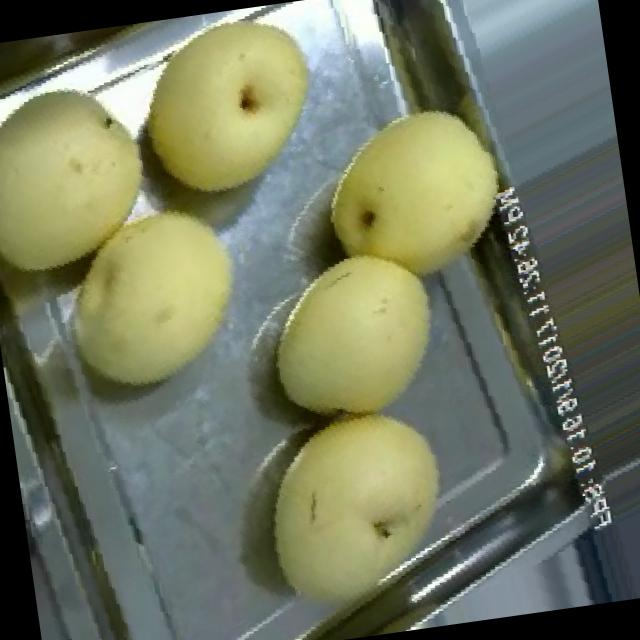Fruit: (225, 380, 483, 640), (28, 166, 278, 422), (103, 0, 351, 233), (292, 75, 516, 318), (0, 26, 189, 309), (239, 220, 476, 444)
